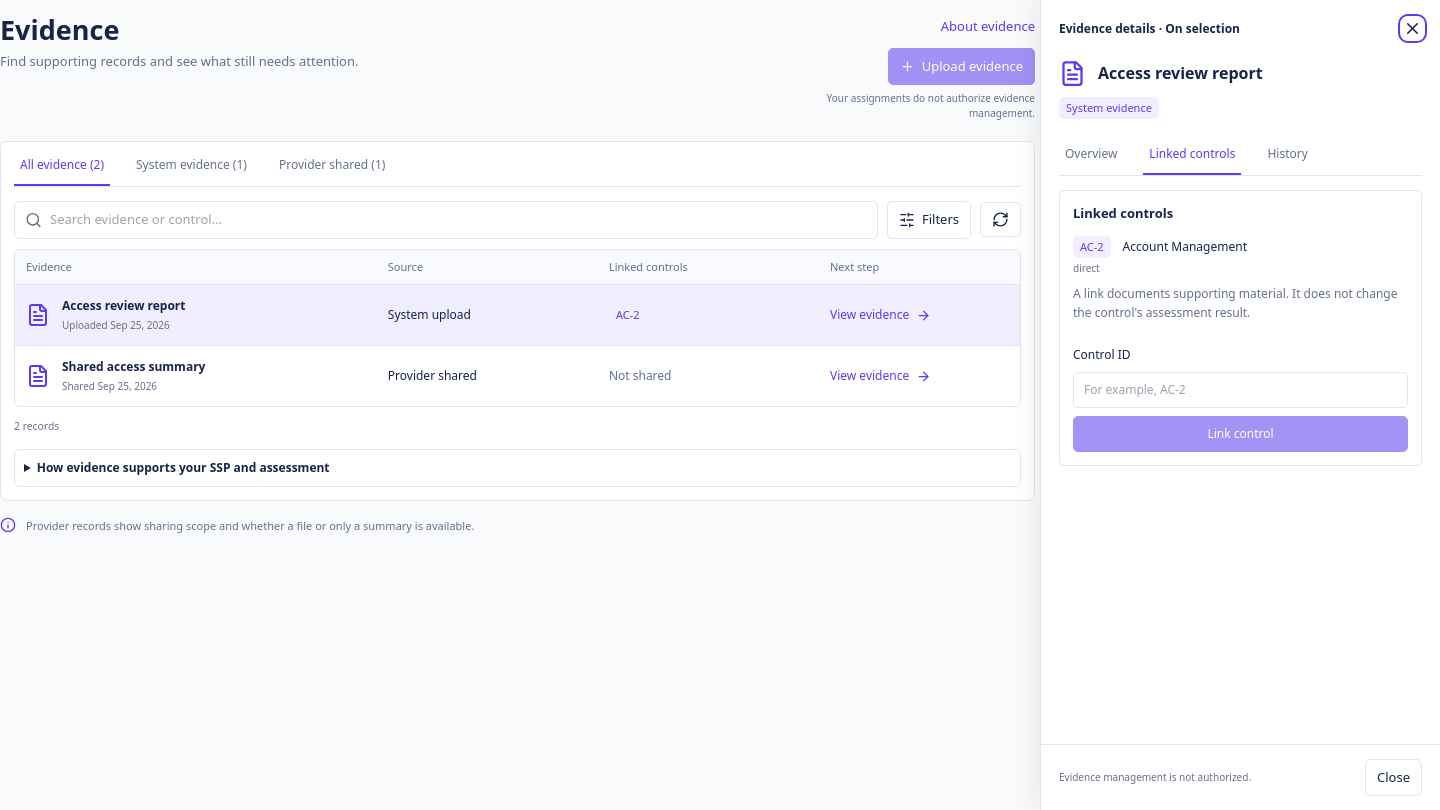
Test: Evidence catalog › uses the existing record hash when linking and surfaces stale conflicts
Type "ac-3" into the field labelled "Control ID" at (1240, 390), box x1=1073 y1=372 x2=1408 y2=408
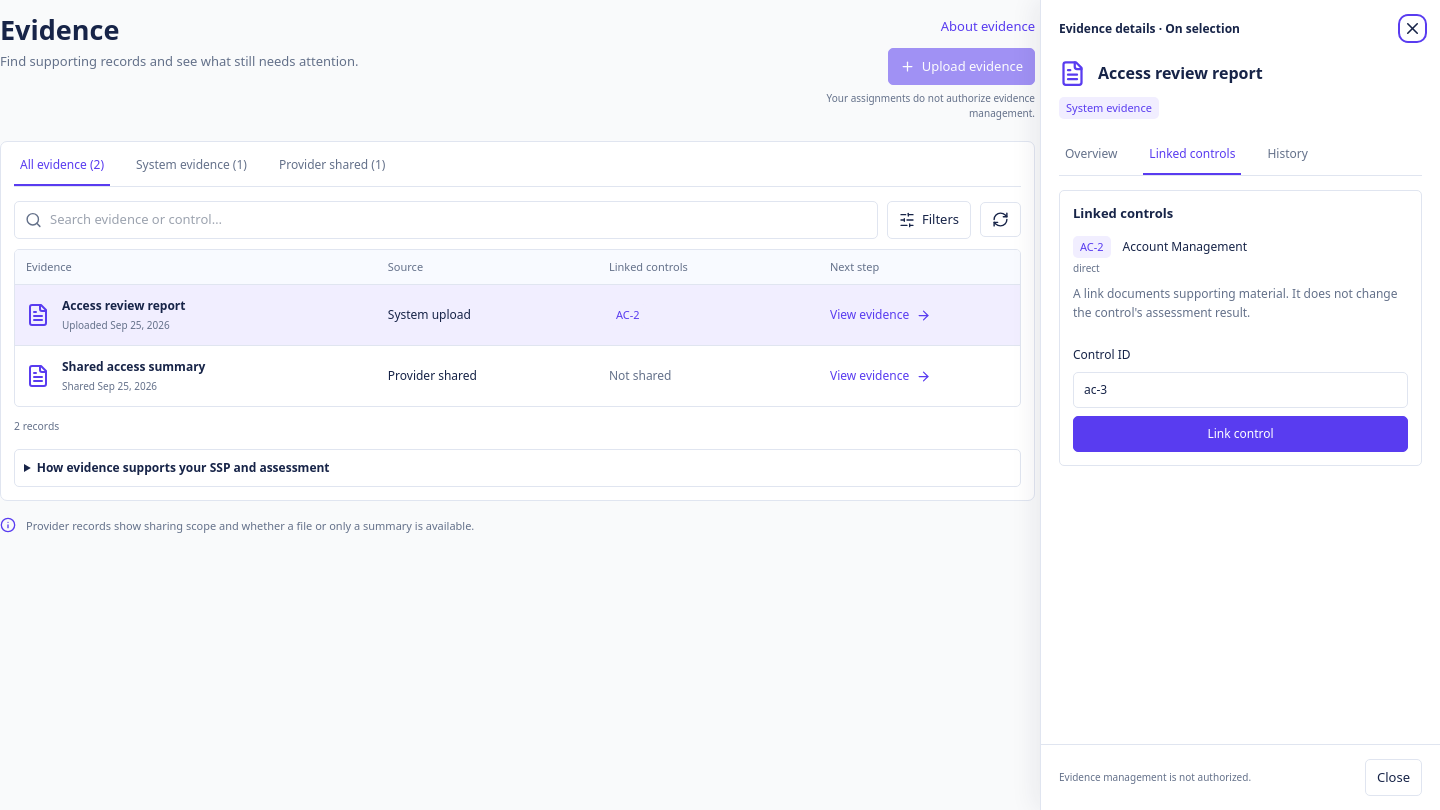
Click the button "Link control" at (1240, 434), box x1=1073 y1=416 x2=1408 y2=452
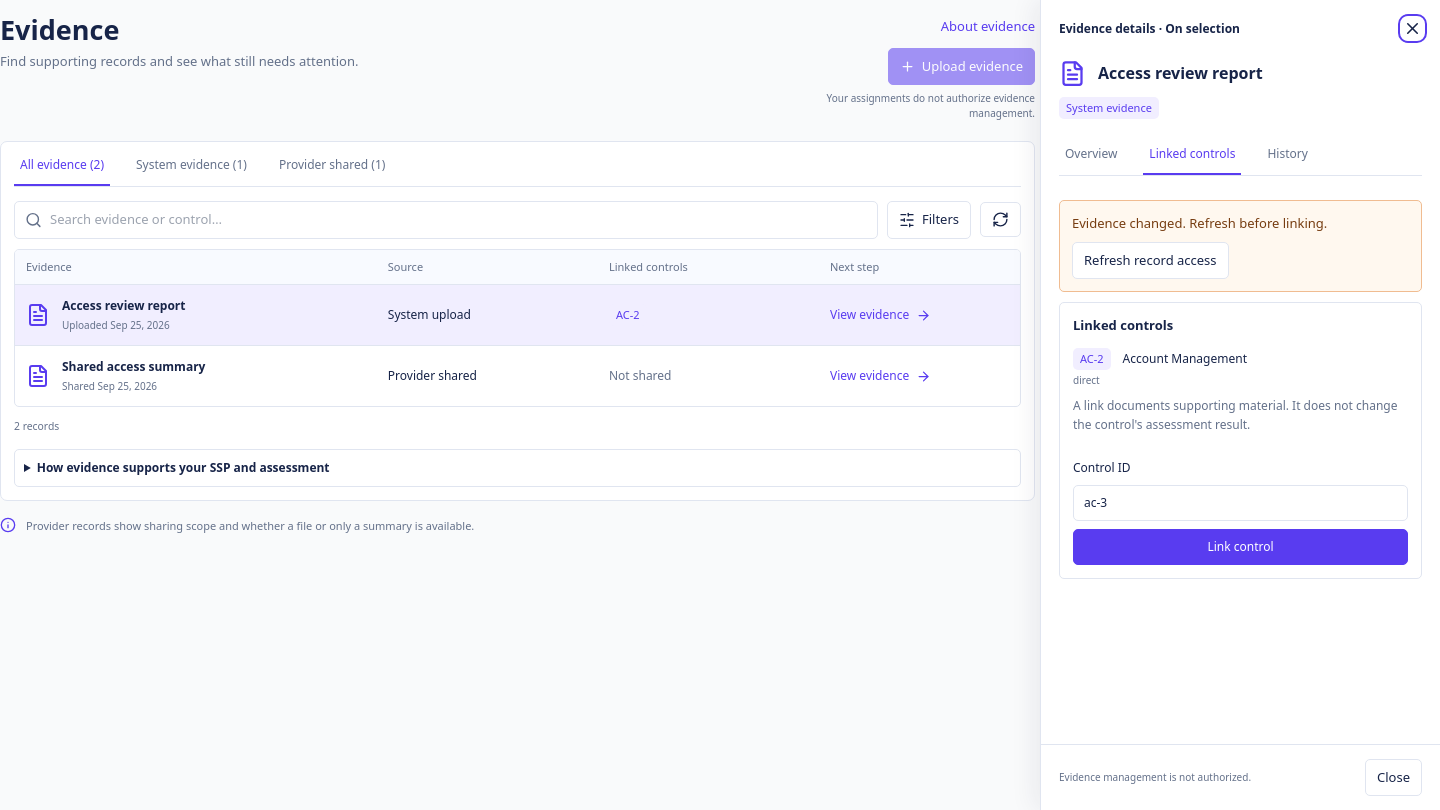
Expected: the link "AC-2 Account Management" is shown, x1=1073 y1=348 x2=1247 y2=370
Result: the message shows "Evidence changed. Refresh before linking." at x1=1072 y1=214 x2=1327 y2=232
